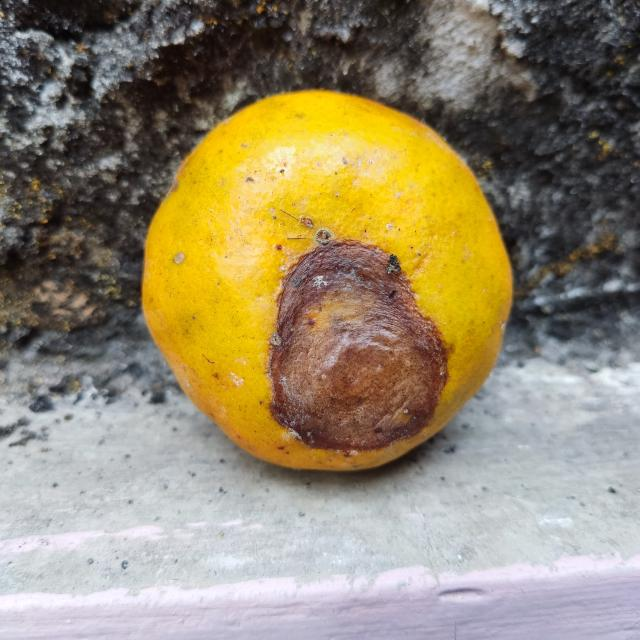orange: (141, 86, 514, 473)
